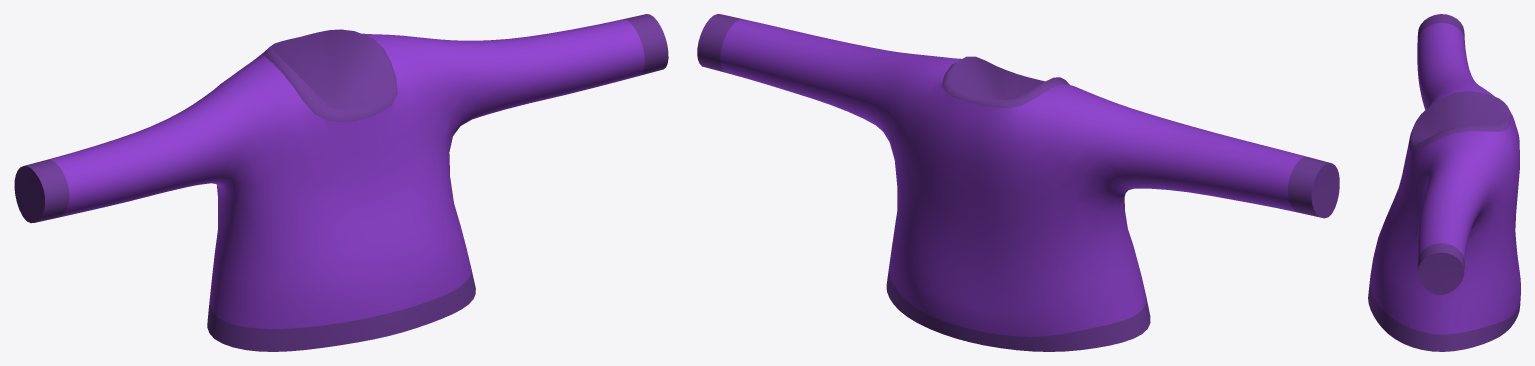
Rendered from 8Mattshea.fbx.
3 views of the same model, side by side, from view 1: azimuth 30°, elevation 25°; view 2: azimuth 150°, elevation 25°; view 3: azimuth 270°, elevation 25° (orthographic). The views are drawn at different scales.
Visible parts, largest first — view 1: 8Mattshea; view 2: 8Mattshea; view 3: 8Mattshea.
Boxes of the visible parts, x1,y1,x2,y2 form: 8Mattshea: (14, 14, 668, 351); 8Mattshea: (697, 14, 1339, 351); 8Mattshea: (1368, 14, 1520, 351).
Bounding box in the file's own units: 1.5 × 0.5734 × 0.4016.
